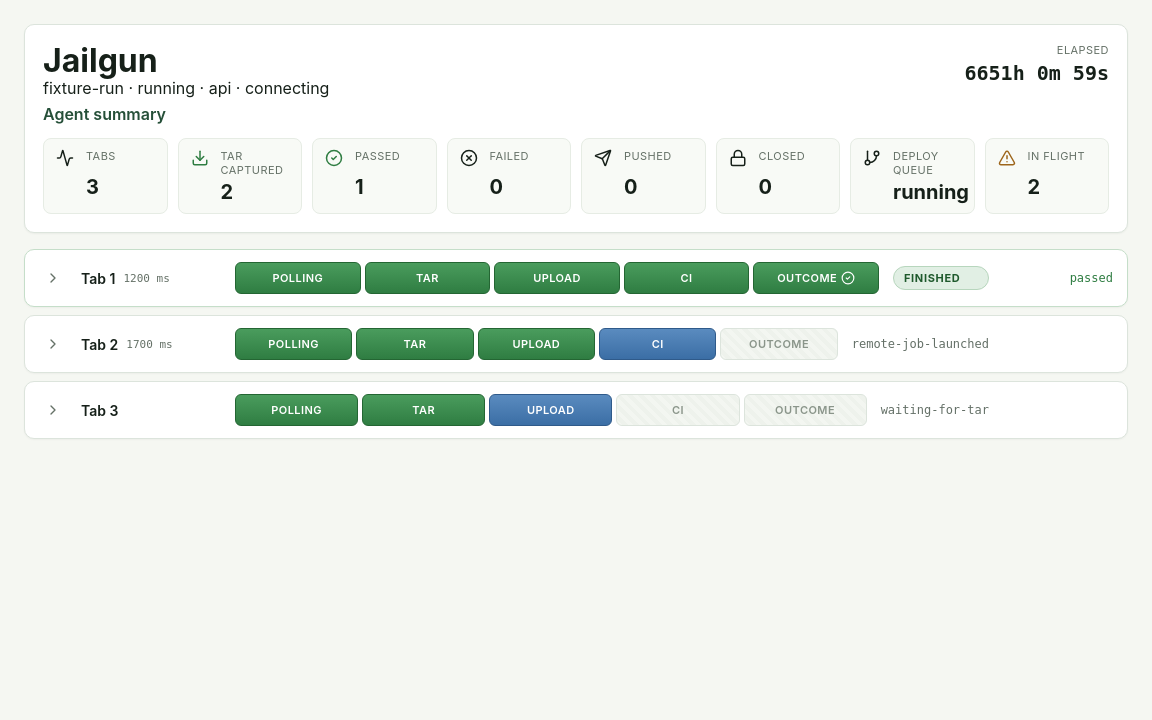
Test: expands the drilldown when the row toggle is clicked
The width and height of the screenshot is (1152, 720).
Check: the element named "tab 1 row" is shown, box [24,249,1128,307]
Click the button named "expand tab 1": (53, 278) [39,266,67,290]
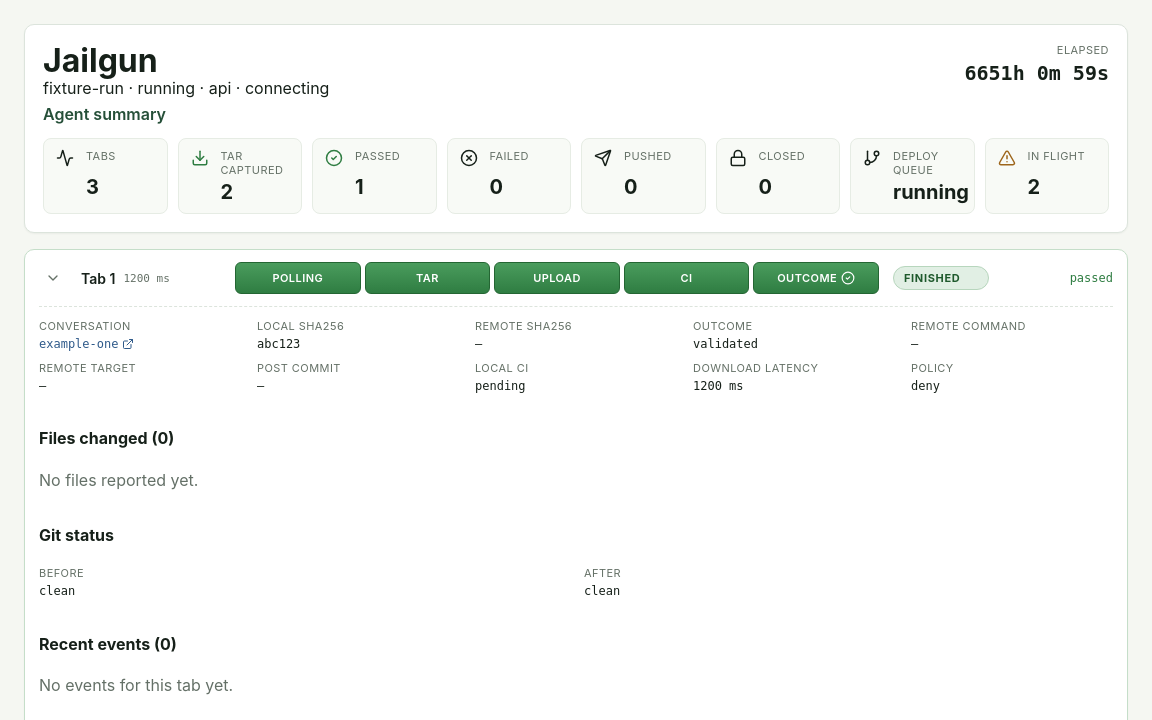
Check: the text "Local sha256" is shown, box [257,319,344,333]
